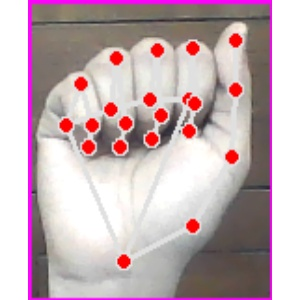A: (28, 2, 272, 300)
